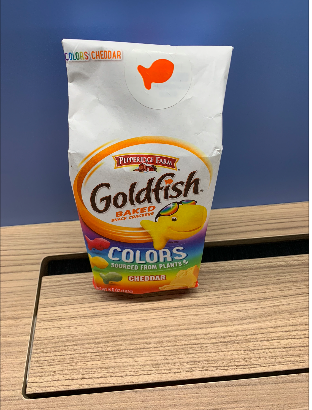Crackers_100-199g: (84, 125, 199, 278)
